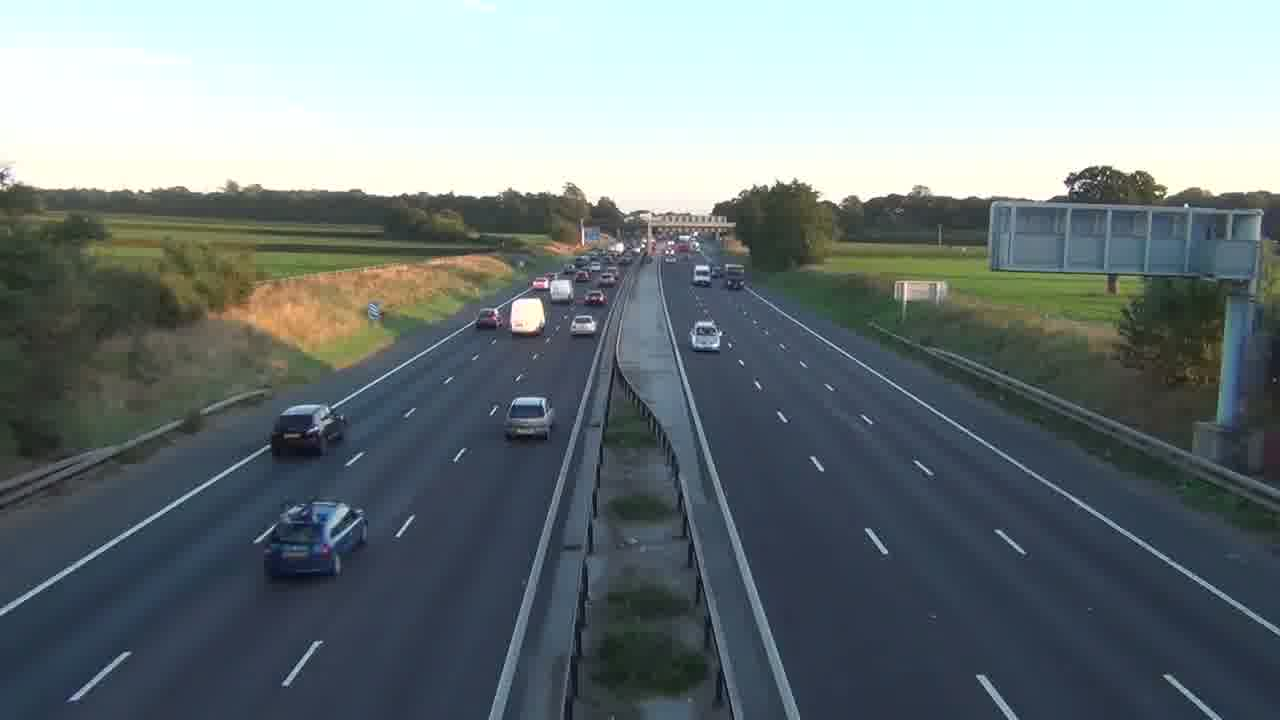car: (262, 498, 369, 578), (506, 394, 557, 440), (690, 320, 722, 352), (570, 314, 597, 339), (477, 307, 499, 328)
truck: (270, 403, 346, 456)
